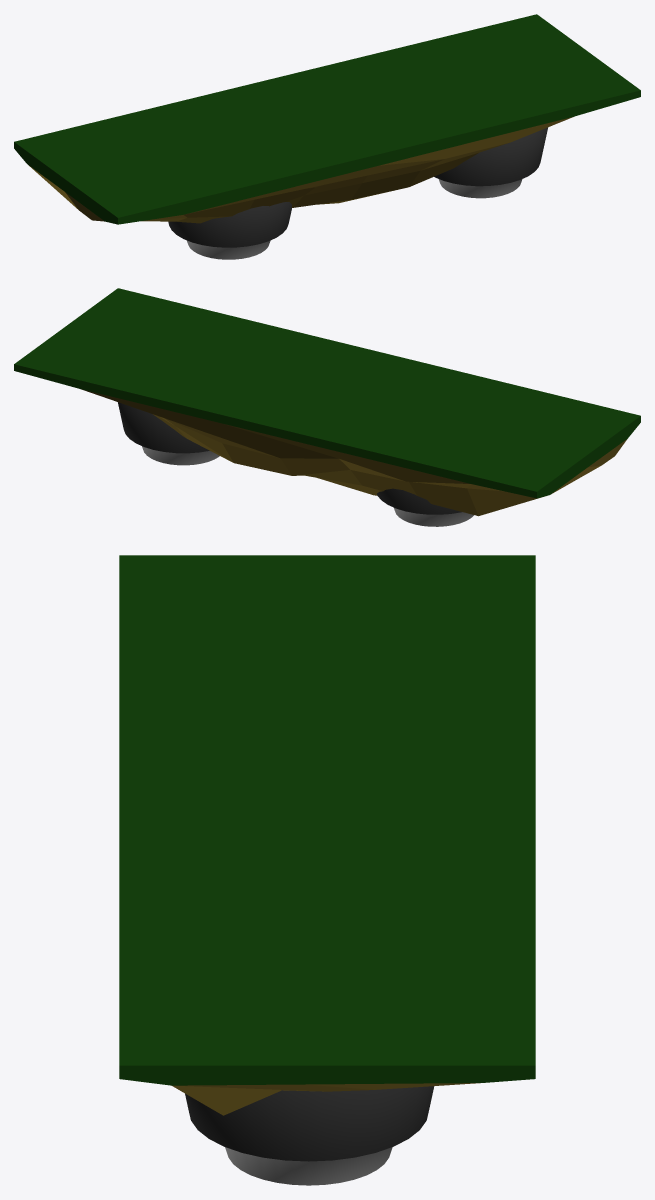
File: Island11.fbx
3 views of the same model, one above another, from view 1: azimuth 30°, elevation 25°; view 2: azimuth 150°, elevation 25°; view 3: azimuth 270°, elevation 25° (orthographic). The views are drawn at different scales.
Visible parts, largest first — view 1: Island11; view 2: Island11; view 3: Island11.
Part boxes in pixels (box(x1,y1,x2,y2)): Island11: box(14, 14, 640, 259); Island11: box(14, 288, 640, 526); Island11: box(119, 555, 535, 1185).
Size of the model in its own units: 16757 by 2993 by 5772.
